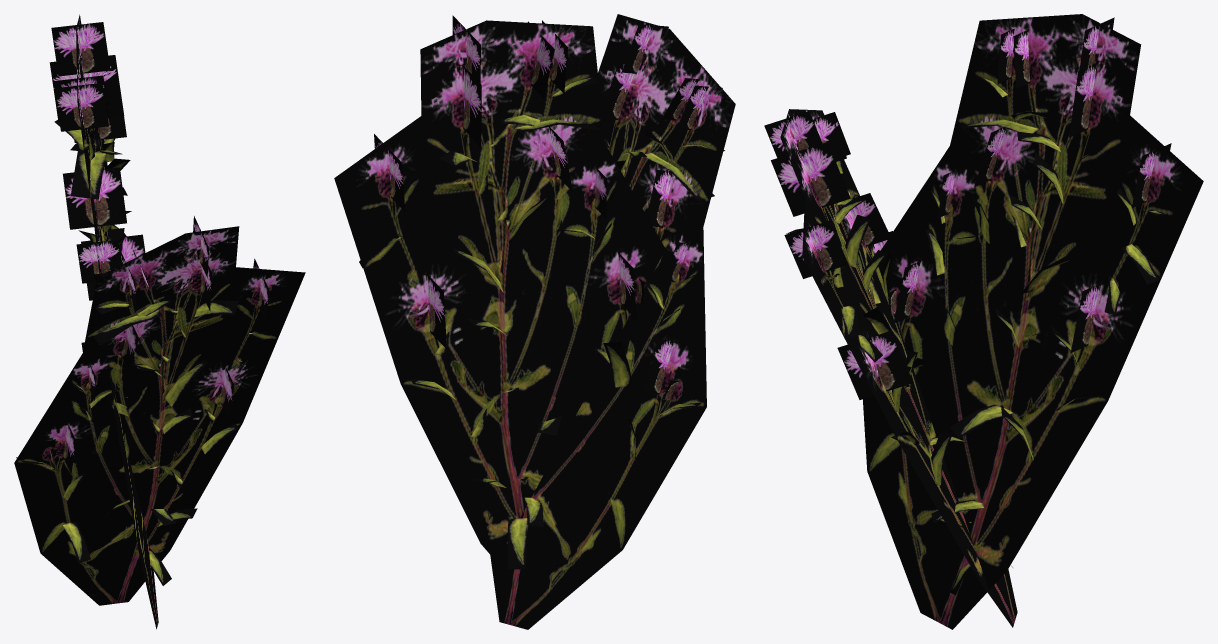
The model's file is 04_centaurea_jacea_high_001.fbx.
3 views of the same model, side by side, from view 1: azimuth 30°, elevation 25°; view 2: azimuth 150°, elevation 25°; view 3: azimuth 270°, elevation 25° (orthographic). The views are drawn at different scales.
Visible parts, largest first — view 1: 04_centaurea_jacea_high.001; view 2: 04_centaurea_jacea_high.001; view 3: 04_centaurea_jacea_high.001.
Boxes of the visible parts, box(x1,y1,x2,y2) form: 04_centaurea_jacea_high.001: box(14, 14, 305, 629); 04_centaurea_jacea_high.001: box(334, 14, 735, 629); 04_centaurea_jacea_high.001: box(764, 14, 1203, 629).
Bounding box in the file's own units: 0.1097 × 0.2554 × 0.1685.
